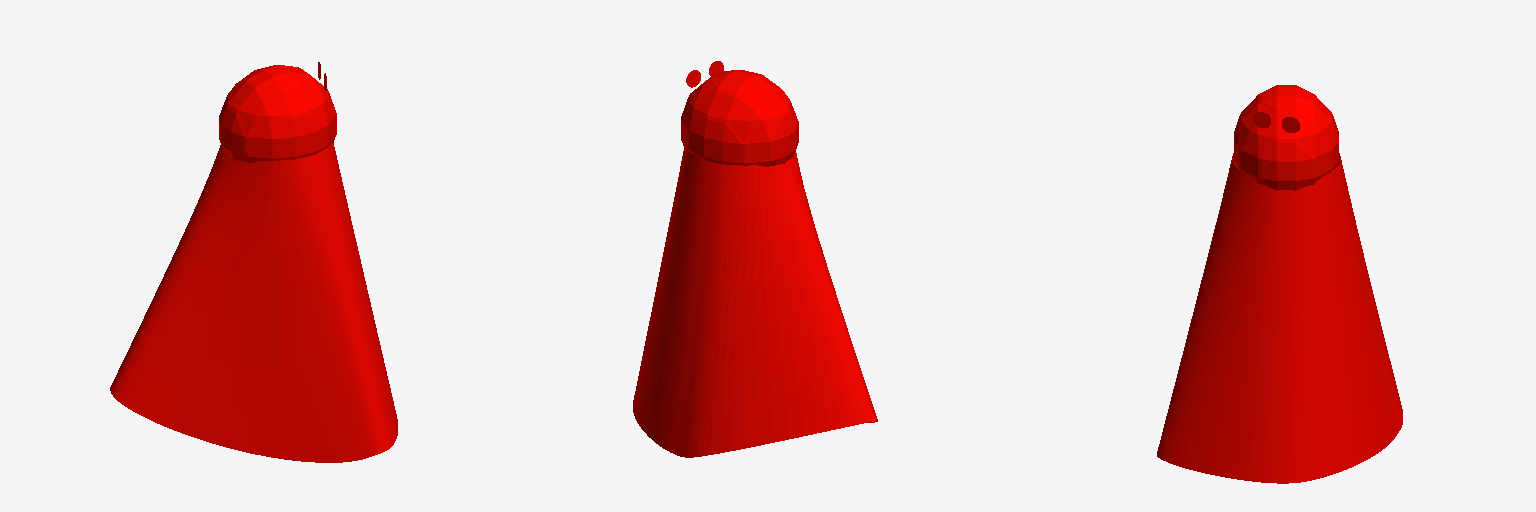
Rendered from ghost2_red.obj.
3 renders of one model, left to right at view 1: azimuth 30°, elevation 25°; view 2: azimuth 150°, elevation 25°; view 3: azimuth 270°, elevation 25°, orthographic.
Parts seen in each view (by area): view 1: Surface, Mball; view 2: Surface, Mball; view 3: Surface, Mball.
Part boxes in pixels (x1,y1,x2,y2): Surface: (110, 142, 397, 462); Mball: (219, 65, 336, 162); Surface: (633, 148, 877, 457); Mball: (681, 70, 798, 166); Surface: (1157, 153, 1402, 483); Mball: (1234, 85, 1338, 190).
Bounding box in the file's own units: 5.36 × 7.2 × 4.55.